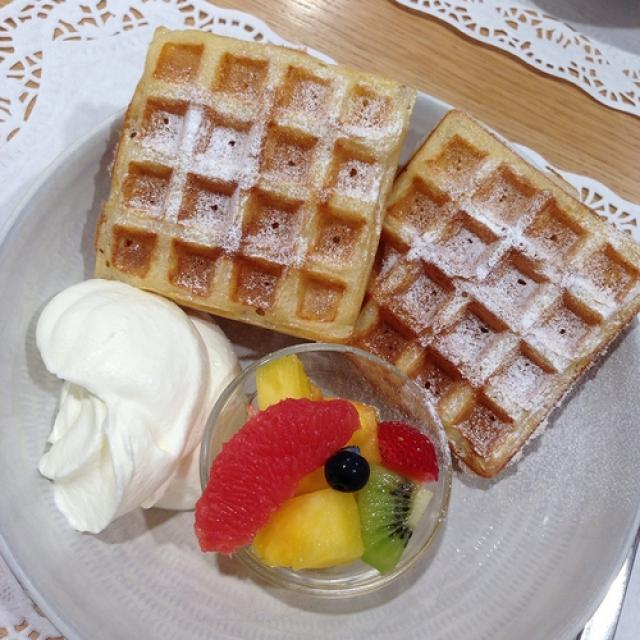炸货点心: (9, 18, 630, 623)
蛋糕甜品: (9, 18, 630, 623)
